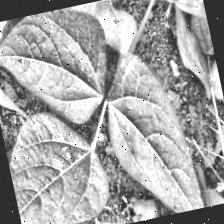ALS: (0, 0, 123, 139), (46, 0, 142, 64)
